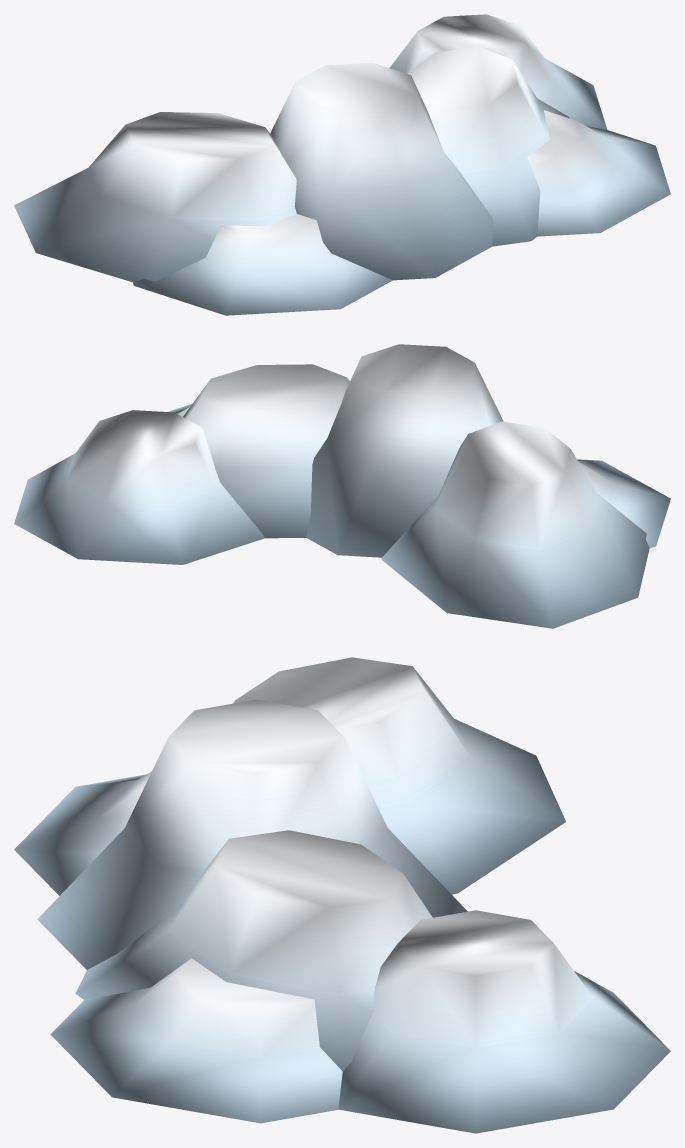
The model's file is snow-bunker_lev3.glb.
3 views of the same model, one above another, from view 1: azimuth 30°, elevation 25°; view 2: azimuth 150°, elevation 25°; view 3: azimuth 270°, elevation 25° (orthographic). The views are drawn at different scales.
Parts seen in each view (by area): view 1: snow-bunker_lev3; view 2: snow-bunker_lev3; view 3: snow-bunker_lev3.
Boxes of the visible parts, bbox=[...] form: snow-bunker_lev3: bbox=[14, 14, 670, 315]; snow-bunker_lev3: bbox=[14, 344, 670, 628]; snow-bunker_lev3: bbox=[14, 657, 670, 1133].
Bounding box in the file's own units: 1.94 × 0.4136 × 1.35.
1 material, 1 textured.
